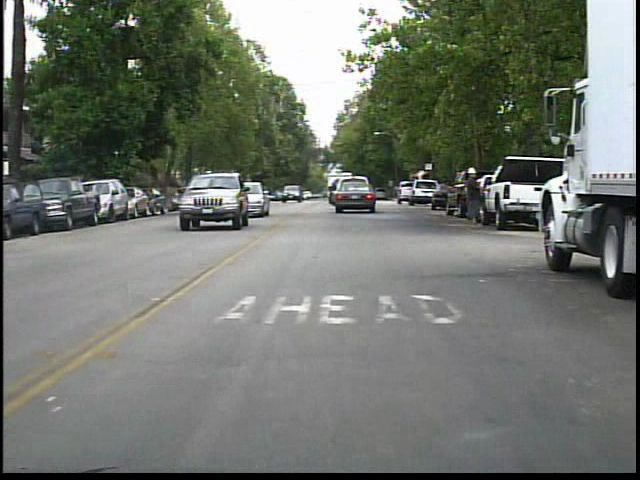person: (459, 164, 489, 232)
